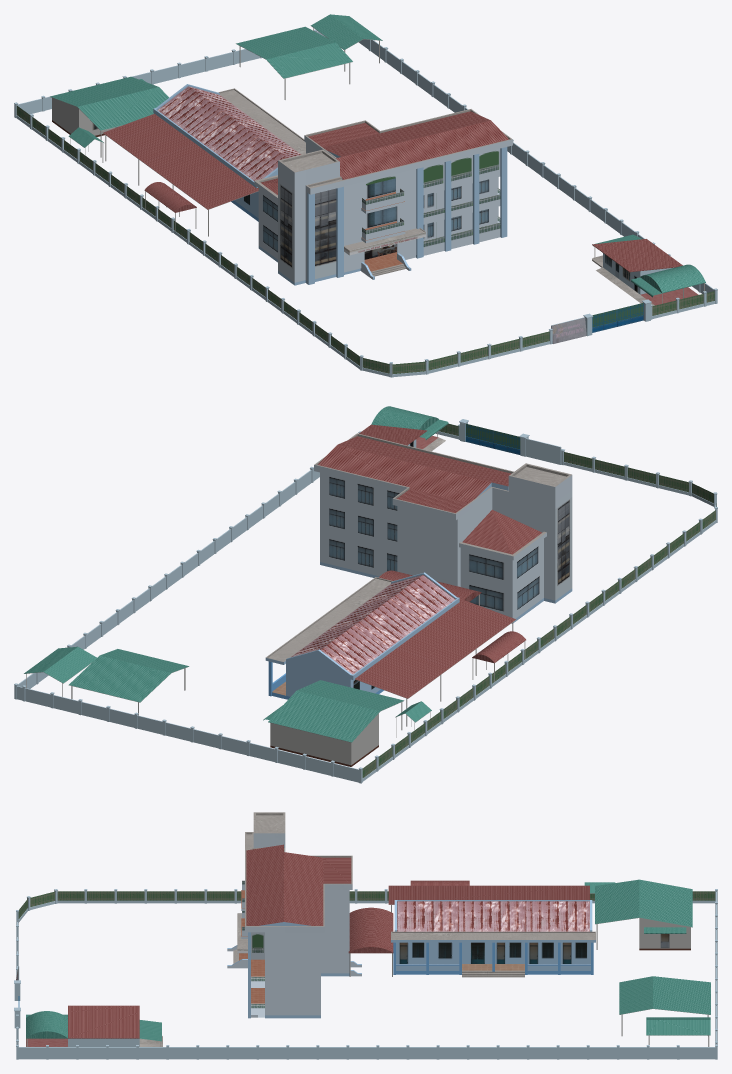
Rendered from Thanh tra So GTVT tinh Binh Phuoc GLB ALL.glb.
3 renders of one model, top to bottom at view 1: azimuth 30°, elevation 25°; view 2: azimuth 150°, elevation 25°; view 3: azimuth 270°, elevation 25°, orthographic. The views are drawn at different scales.
Visible parts, largest first — view 1: BPH013_2, BPH013_1, BPH013_3, BPH013_3.001; view 2: BPH013_2, BPH013_3, BPH013_1, BPH013_3.001; view 3: BPH013_3, BPH013_1, BPH013_2, BPH013_3.001.
Part boxes in pixels (x1=…): BPH013_2: x1=254, y1=109, x2=512, y2=285; BPH013_1: x1=14, y1=29, x2=717, y2=377; BPH013_3: x1=50, y1=76, x2=305, y2=236; BPH013_3.001: x1=236, y1=14, x2=382, y2=99; BPH013_2: x1=314, y1=433, x2=572, y2=623; BPH013_3: x1=263, y1=570, x2=525, y2=766; BPH013_1: x1=14, y1=406, x2=717, y2=783; BPH013_3.001: x1=24, y1=646, x2=189, y2=715; BPH013_3: x1=348, y1=879, x2=692, y2=977; BPH013_1: x1=14, y1=889, x2=717, y2=1059; BPH013_2: x1=227, y1=812, x2=361, y2=1018; BPH013_3.001: x1=619, y1=976, x2=710, y2=1046.
Bounding box in the file's own units: 39.83 × 12.77 × 75.3.
3 materials, 3 textured.
